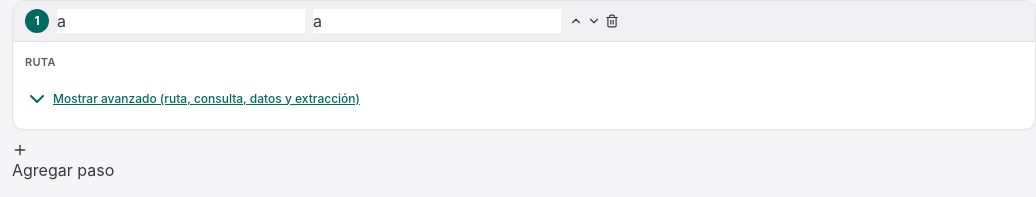
Scenario: JourneySequenceTable · agregar y quitar › eliminar el último paso deja la secuencia vacía y su mensaje
Click the button named "Eliminar paso".
click(612, 21)  # box [605, 14, 619, 28]
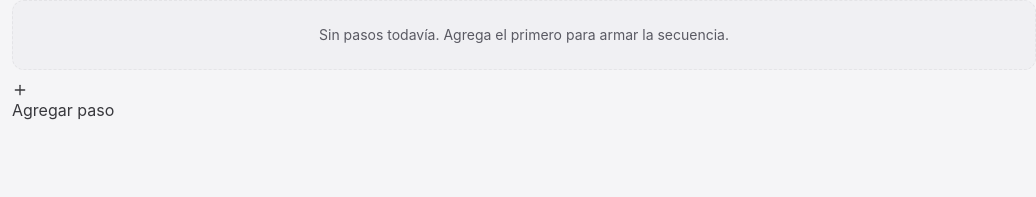
Check: the text "Sin pasos todavía. Agrega el primero para armar la secuencia." is shown, box [12, 0, 1035, 70]
